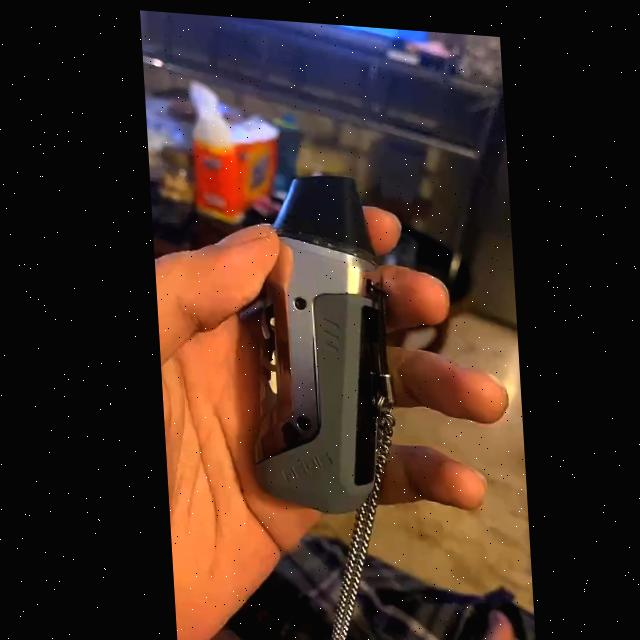vape: (231, 164, 393, 511)
